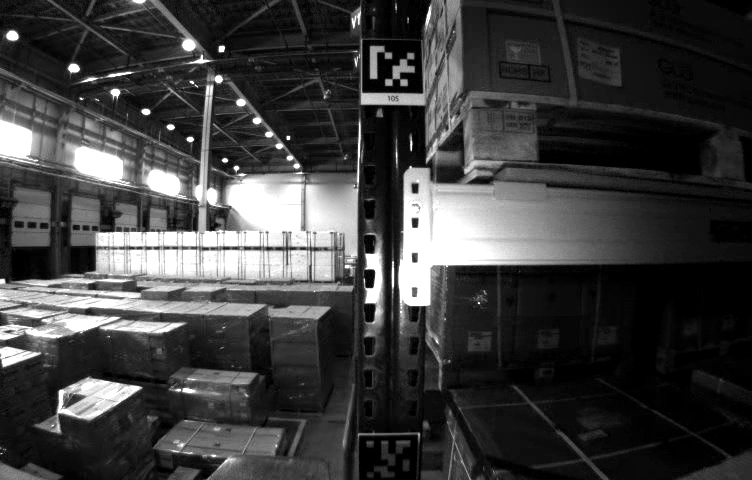True Barcode: (574, 38, 623, 86)
